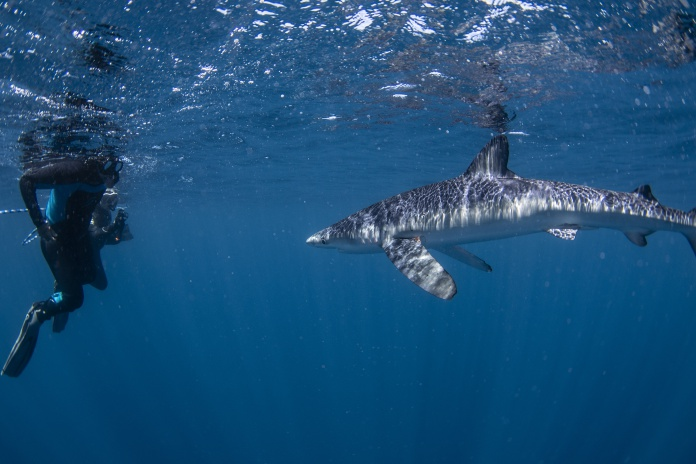Azul: (305, 133, 696, 308)
